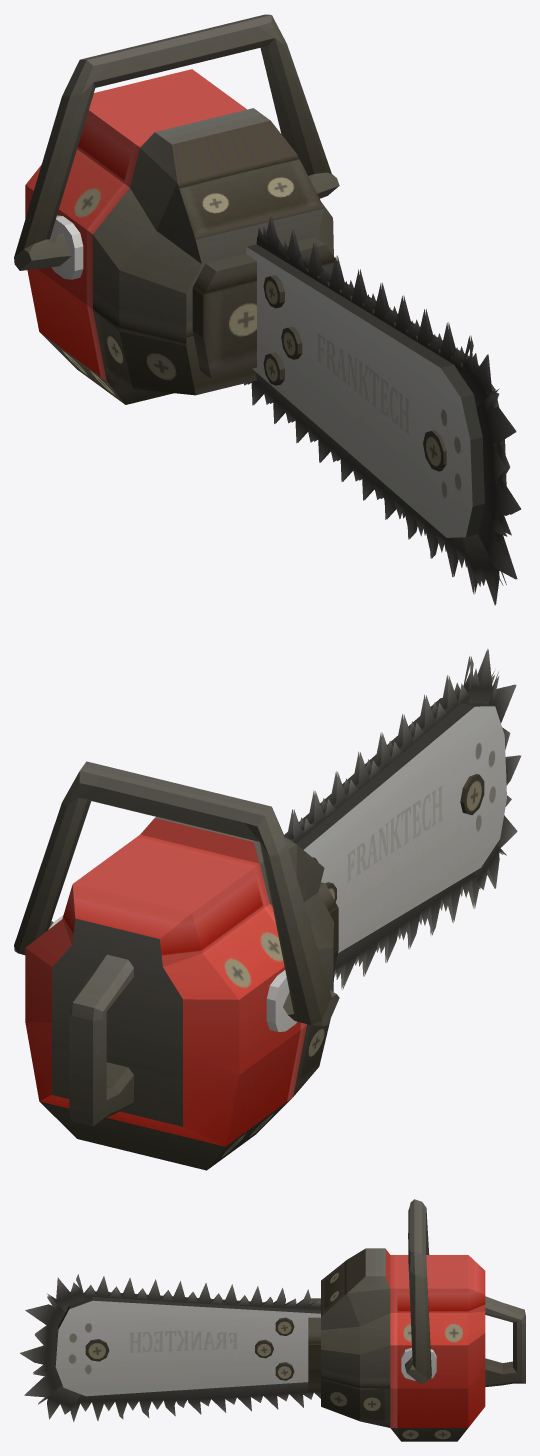
Rendered from Improved_Chainsaw Variant.fbx.
3 renders of one model, top to bottom at view 1: azimuth 30°, elevation 25°; view 2: azimuth 150°, elevation 25°; view 3: azimuth 270°, elevation 25°, orthographic. The views are drawn at different scales.
Parts seen in each view (by area): view 1: ChainsawModel, ChainsawBlade; view 2: ChainsawModel, ChainsawBlade; view 3: ChainsawModel, ChainsawBlade.
Part boxes in pixels (<box>): ChainsawModel: <box>14,14,506,537</box>; ChainsawBlade: <box>244,216,520,605</box>; ChainsawModel: <box>14,698,506,1170</box>; ChainsawBlade: <box>285,649,521,989</box>; ChainsawModel: <box>55,1199,525,1441</box>; ChainsawBlade: <box>20,1274,320,1421</box>.
Bounding box in the file's own units: 0.8334 × 0.9061 × 2.08.
